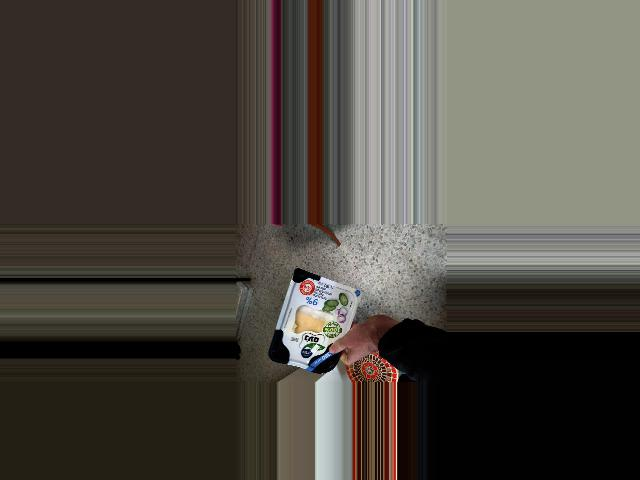cheese: (267, 268, 358, 374)
